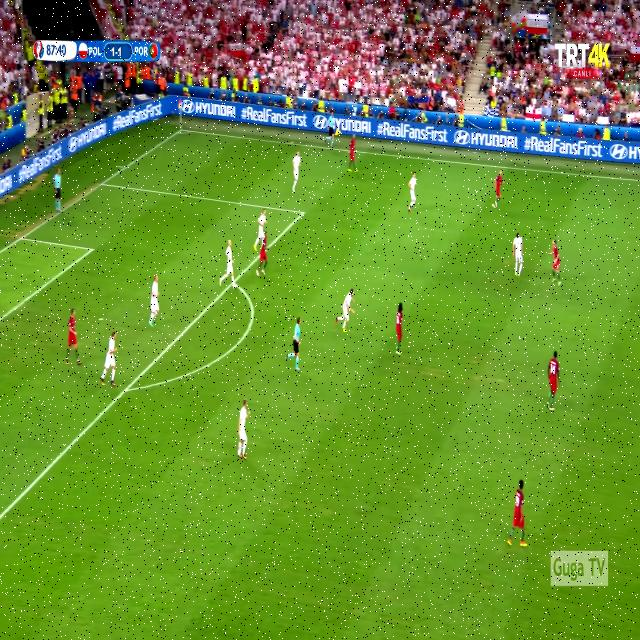TEAM 1: (504, 481, 528, 547), (62, 305, 84, 365), (546, 344, 563, 414), (391, 299, 406, 357), (549, 236, 564, 286), (492, 166, 508, 209), (346, 131, 359, 177), (259, 231, 271, 276)
TEAM 2: (333, 279, 356, 336), (101, 333, 122, 391), (234, 398, 252, 464), (222, 235, 238, 294), (510, 234, 529, 279), (148, 273, 163, 328), (288, 150, 302, 190), (256, 204, 266, 250), (406, 171, 418, 209)
